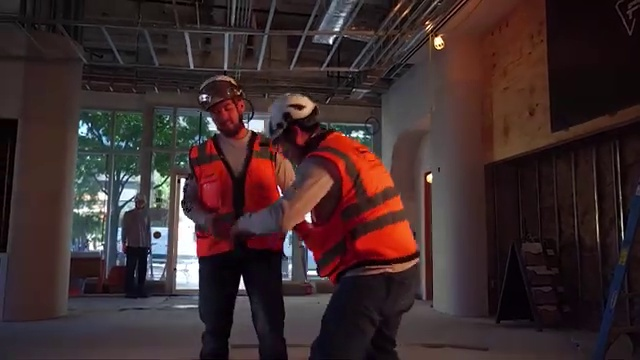helmet: (268, 88, 323, 138), (198, 74, 243, 109)
jacket: (294, 120, 420, 285), (186, 130, 288, 249)
